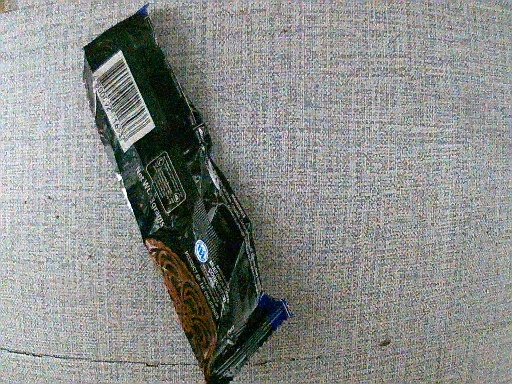plastic: (66, 17, 300, 377)
